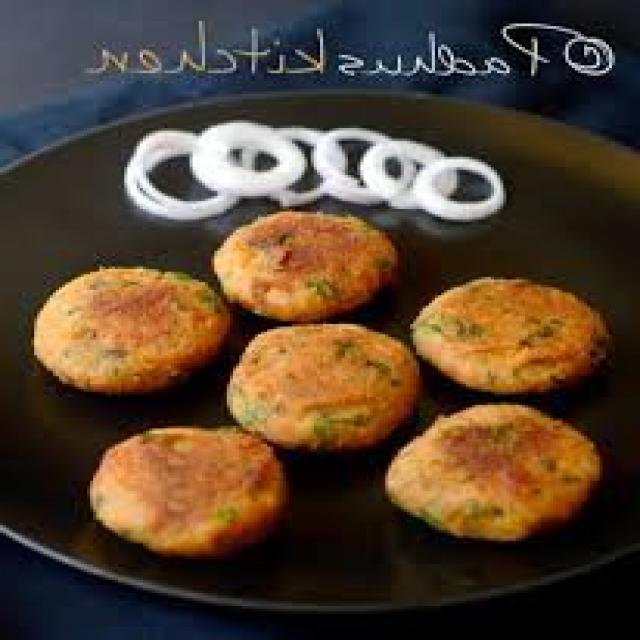Aloo Tikki: (385, 403, 597, 540), (226, 323, 422, 453), (90, 428, 286, 556), (29, 268, 221, 392), (414, 274, 606, 394), (210, 209, 402, 322)
